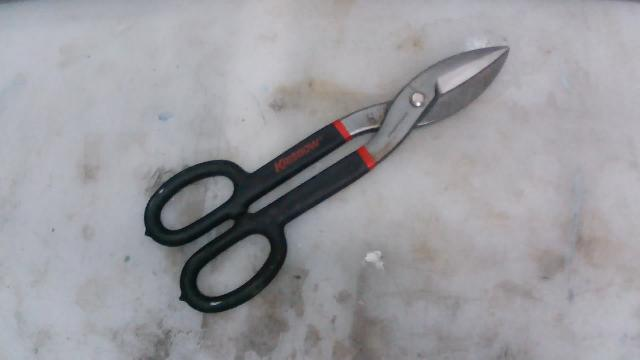gunting_plat: (107, 21, 520, 331)
